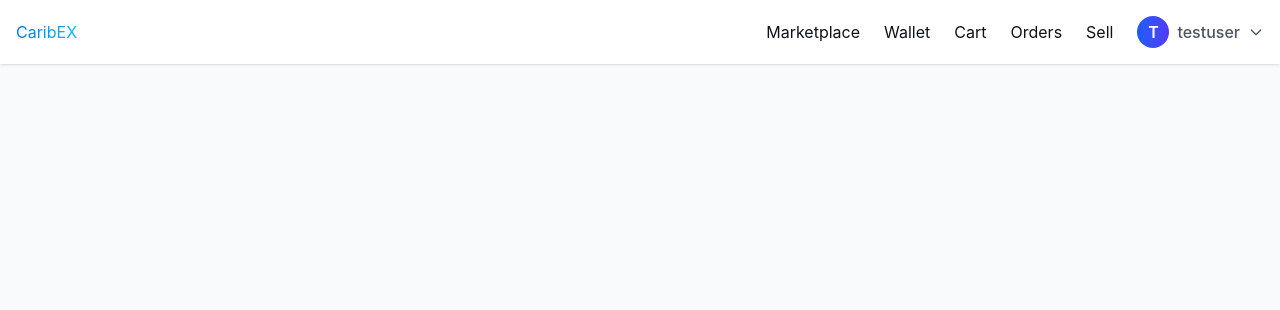
Scenario: Header Component › shows user dropdown menu when clicking user button
Click the button "T testuser" at (1201, 32), box [1137, 16, 1264, 48]
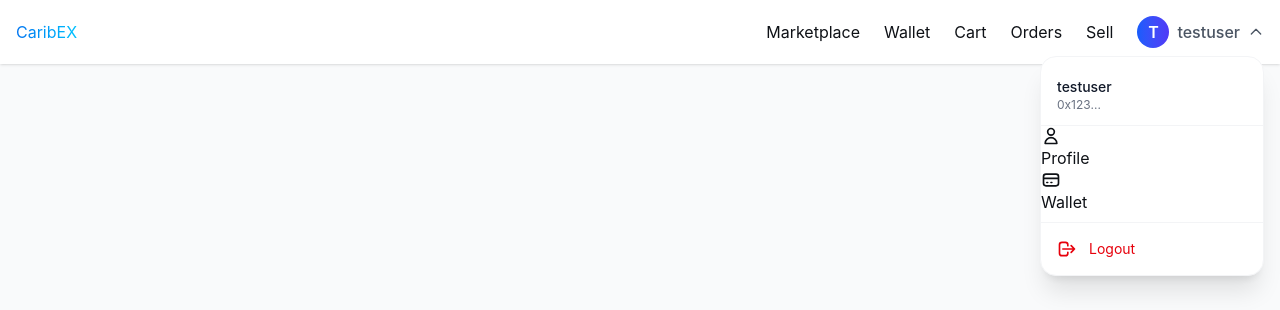
Check: the link "Profile" is shown, box [1041, 126, 1090, 168]
Check: the button "Logout" is shown, box [1041, 231, 1263, 267]
